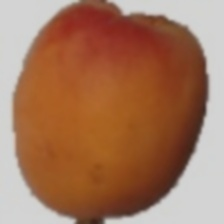apricot: (64, 44, 202, 216)
